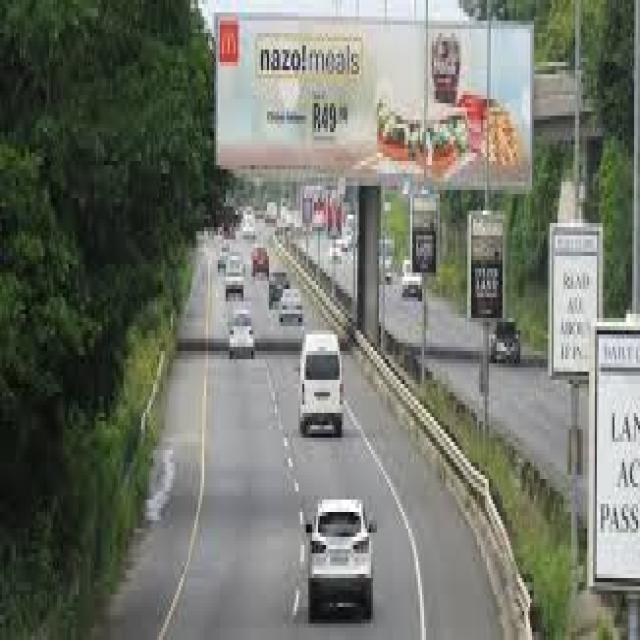Billboard_RHS: (537, 198, 607, 397), (592, 318, 640, 600), (467, 201, 514, 332), (407, 193, 445, 282)
Billboard_overhead: (207, 5, 537, 191)
Roadcorner: (147, 292, 217, 636), (353, 416, 439, 631)
Roadlane: (253, 327, 309, 630)
